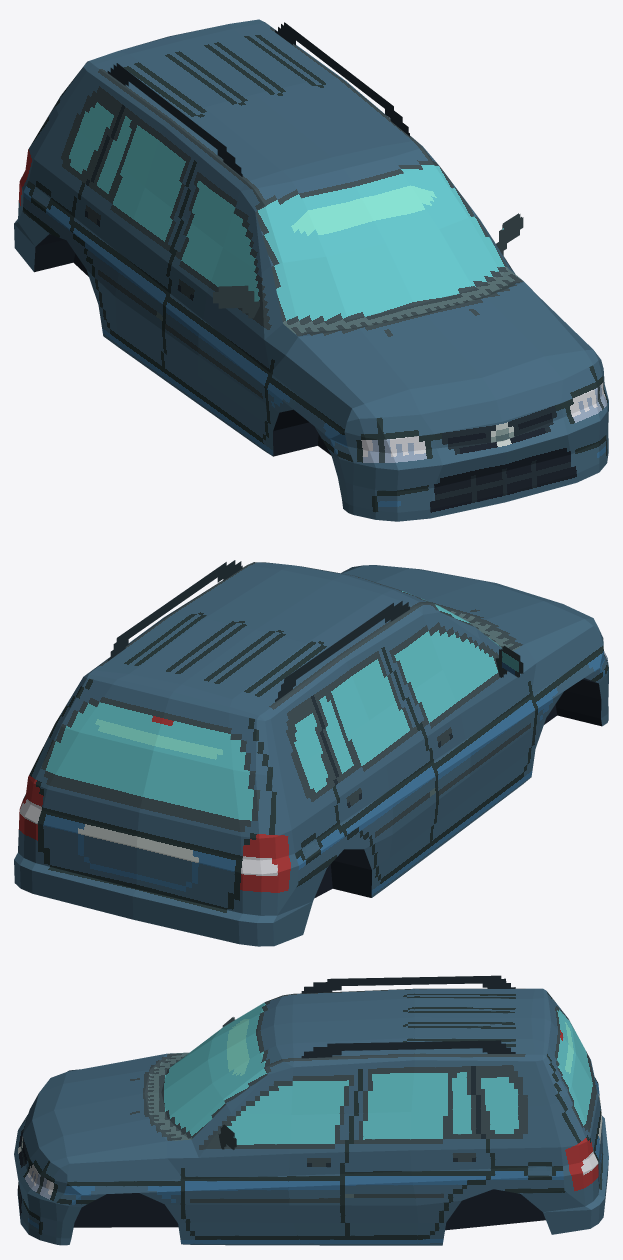
The model's file is mazda_demio.glb.
3 views of the same model, one above another, from view 1: azimuth 30°, elevation 25°; view 2: azimuth 150°, elevation 25°; view 3: azimuth 270°, elevation 25° (orthographic). The views are drawn at different scales.
Visible parts, largest first — view 1: Body; view 2: Body; view 3: Body.
Boxes of the visible parts, x1=… form: Body: x1=14, y1=19, x2=608, y2=521; Body: x1=14, y1=560, x2=608, y2=946; Body: x1=14, y1=975, x2=608, y2=1245.
Bounding box in the file's own units: 1.83 × 1.34 × 3.83.
1 material, 1 textured.
